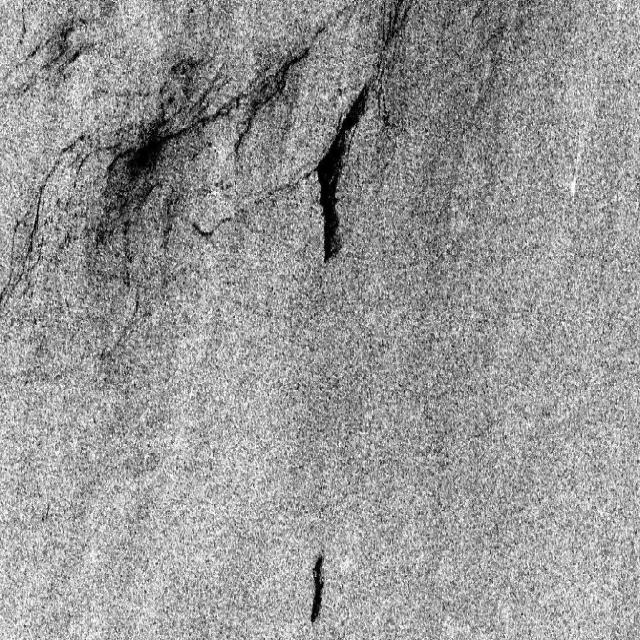look-alike: (80, 73, 240, 273), (5, 148, 76, 305), (246, 41, 300, 142), (377, 0, 418, 125), (13, 12, 90, 69)
oil-spill: (313, 79, 370, 268), (306, 541, 328, 629)
